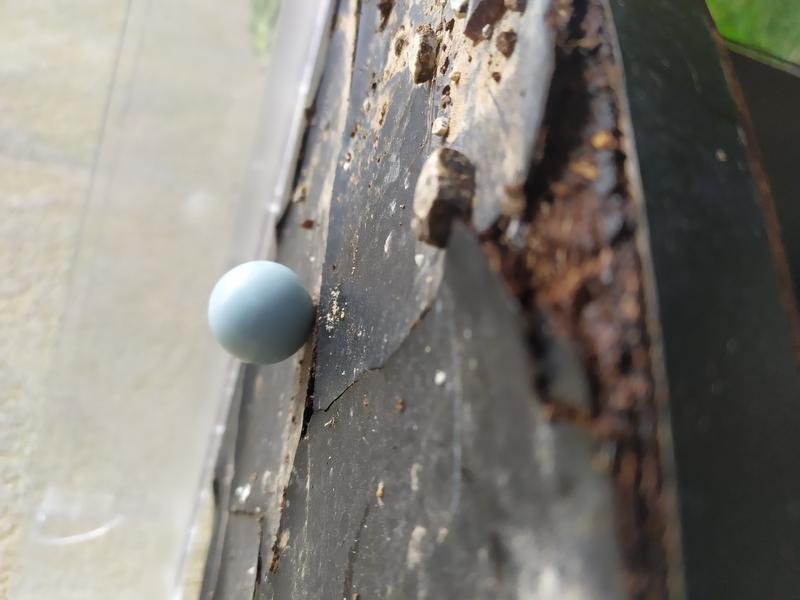Warning: (204, 257, 320, 368)
